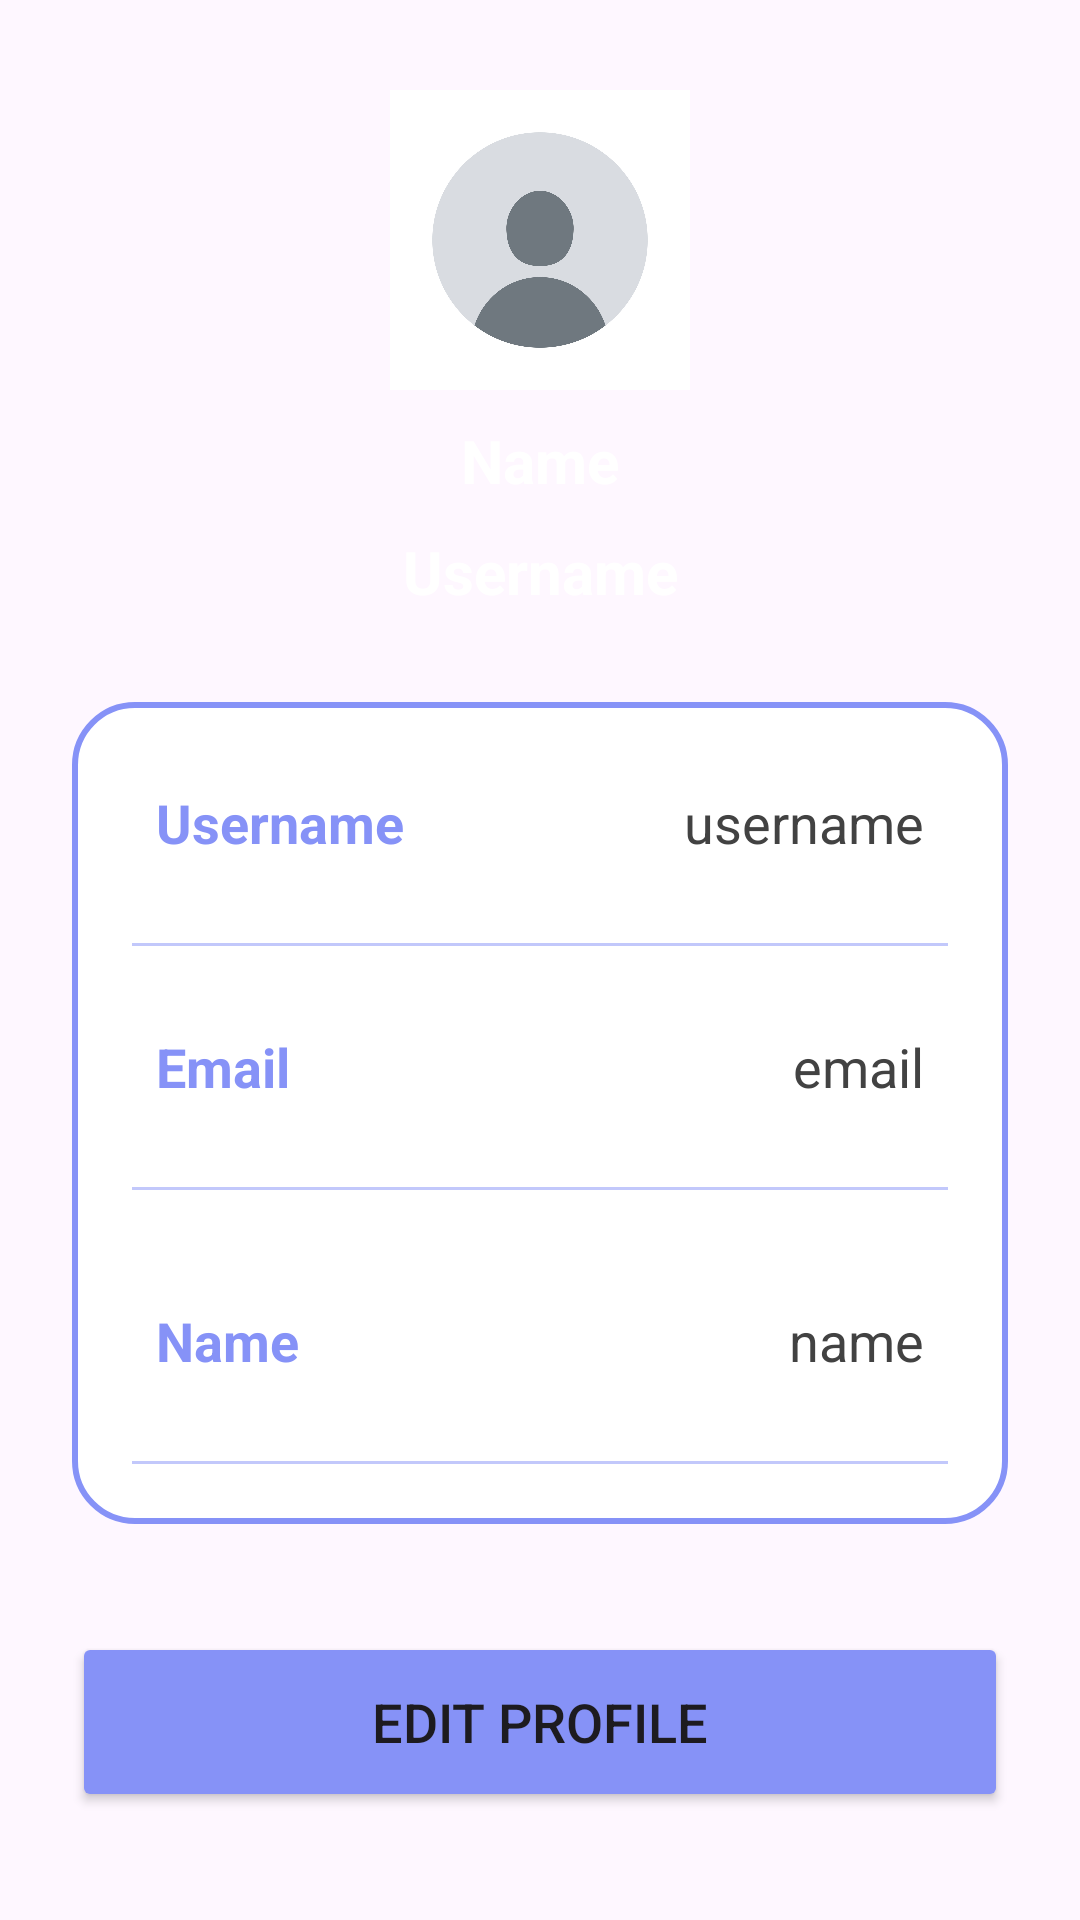

Named icons in this screenshot (1080 x 1920) and their centers, point (x, y):
avata: point (540, 240)
